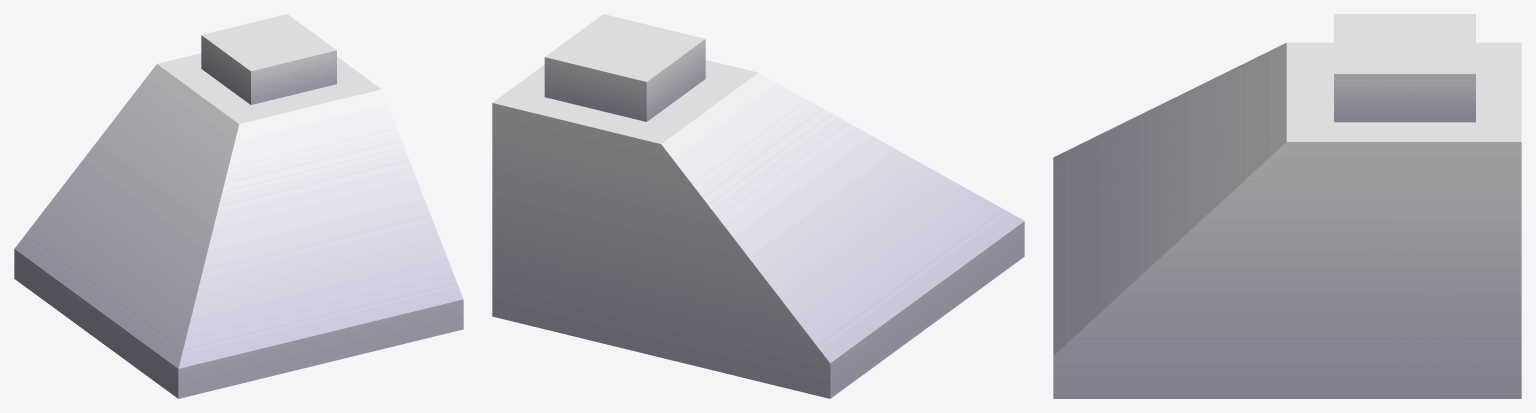
The model's file is square_lq_brick_slope_corner_outside_2x2.glb.
3 views of the same model, side by side, from view 1: azimuth 30°, elevation 25°; view 2: azimuth 150°, elevation 25°; view 3: azimuth 270°, elevation 25° (orthographic). The views are drawn at different scales.
Parts seen in each view (by area): view 1: square-lq-brick-slope-corner-outside-2x2; view 2: square-lq-brick-slope-corner-outside-2x2; view 3: square-lq-brick-slope-corner-outside-2x2.
Boxes of the visible parts, x1,y1,x2,y2 form: square-lq-brick-slope-corner-outside-2x2: (14, 14, 463, 398); square-lq-brick-slope-corner-outside-2x2: (492, 14, 1024, 398); square-lq-brick-slope-corner-outside-2x2: (1053, 14, 1521, 398).
Size of the model in its own units: 0.159 by 0.114 by 0.1585.
Materials: 1 (1 with a texture image).
